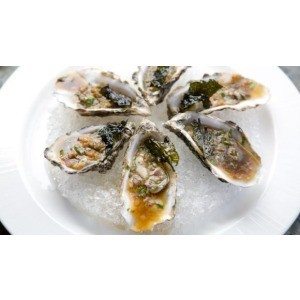oyster_brain food: (192, 75, 263, 175), (50, 70, 115, 174), (121, 131, 175, 226)
